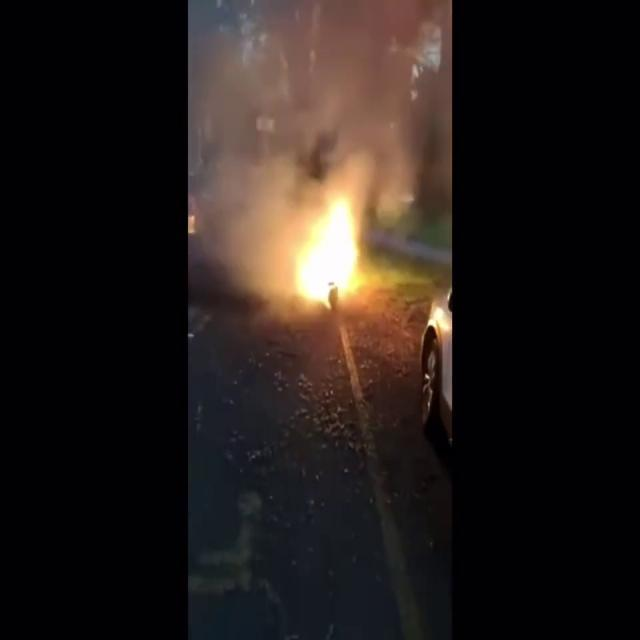Fire: (292, 196, 366, 306)
Smoke: (189, 0, 448, 208)
